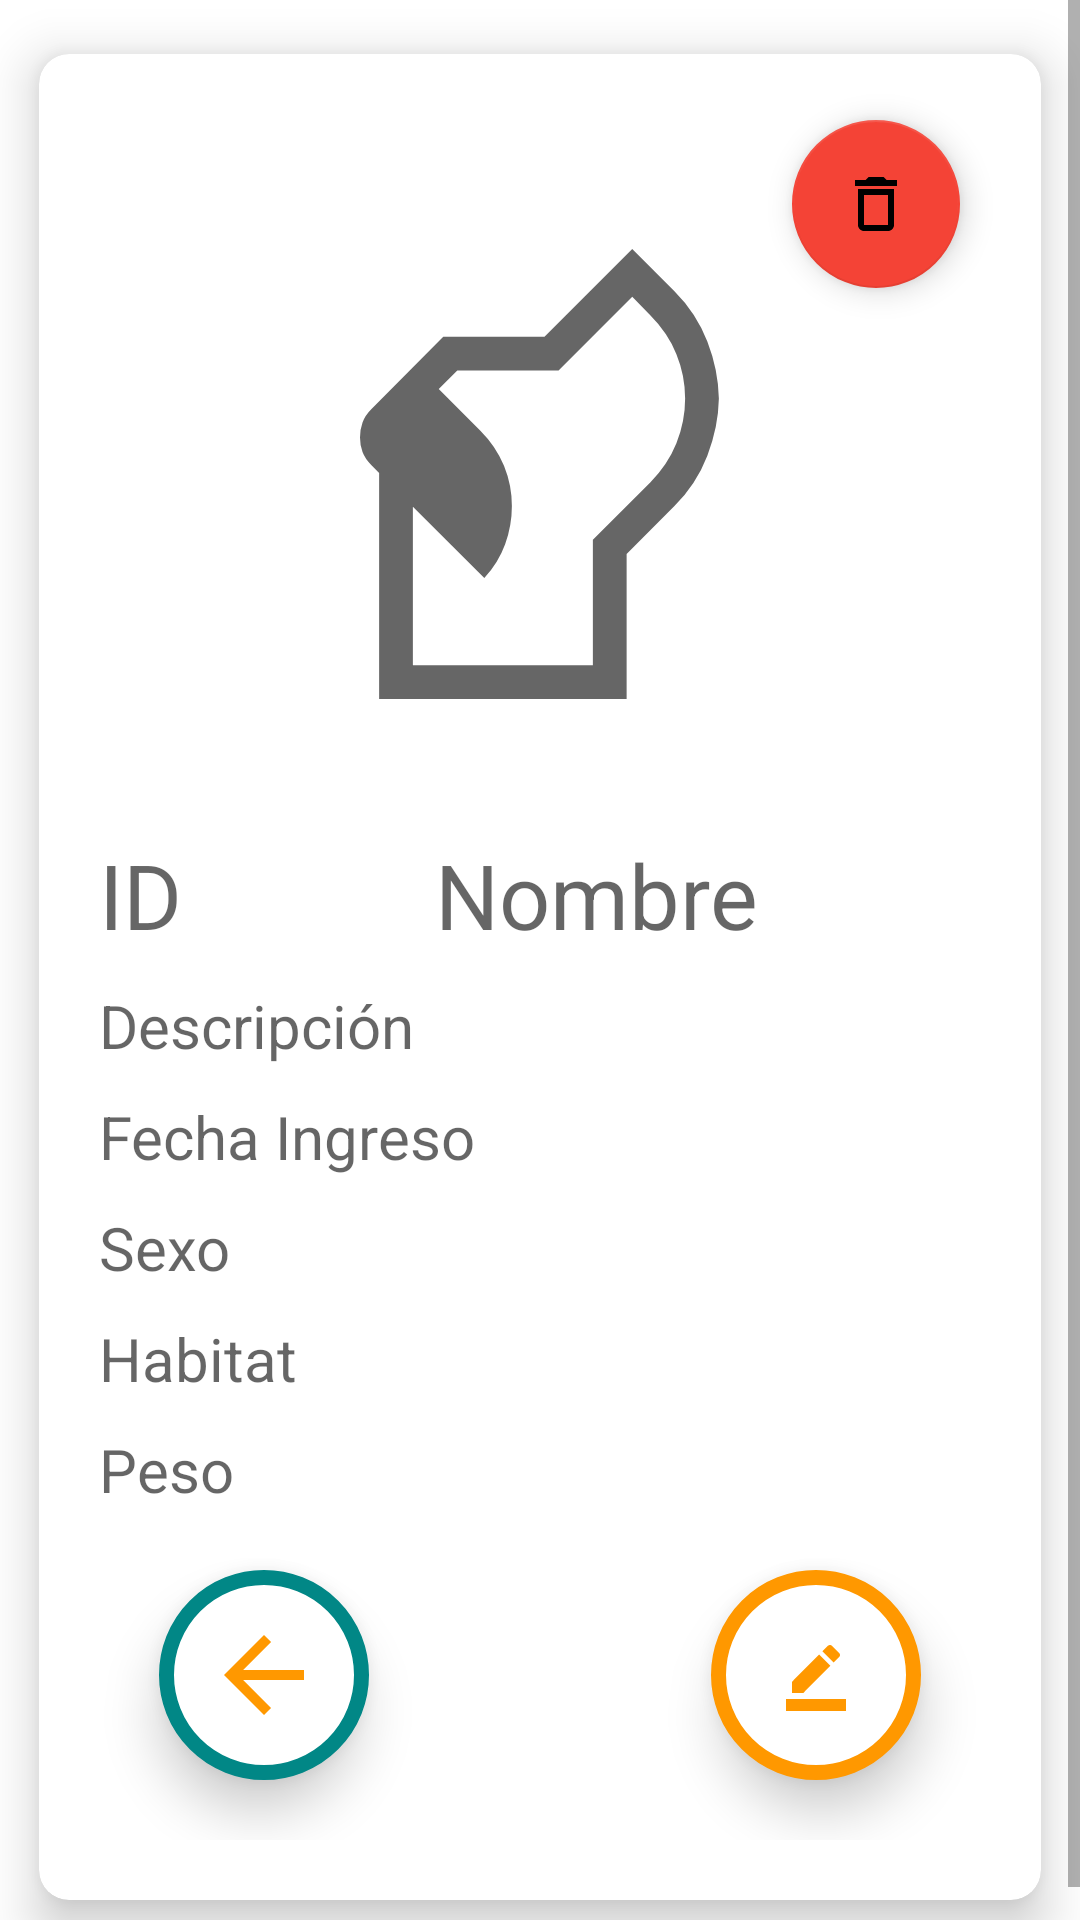

Named icons in this screenshot (1080*1920) and their bounding boxes, (x1, y1, x2, y2):
Atras: (159, 1570, 369, 1780)
delete: (792, 120, 960, 288)
Editar: (711, 1570, 921, 1780)
